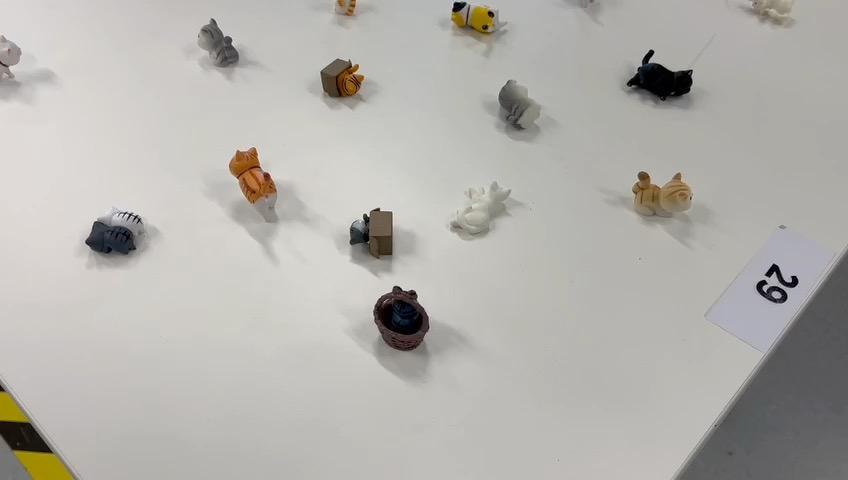pet: (371, 273, 448, 376), (451, 181, 534, 270), (173, 11, 260, 88), (608, 53, 710, 115), (626, 161, 702, 235), (76, 203, 161, 268), (306, 51, 375, 128), (223, 146, 301, 214), (338, 196, 411, 261), (493, 73, 554, 150), (436, 1, 510, 44)
